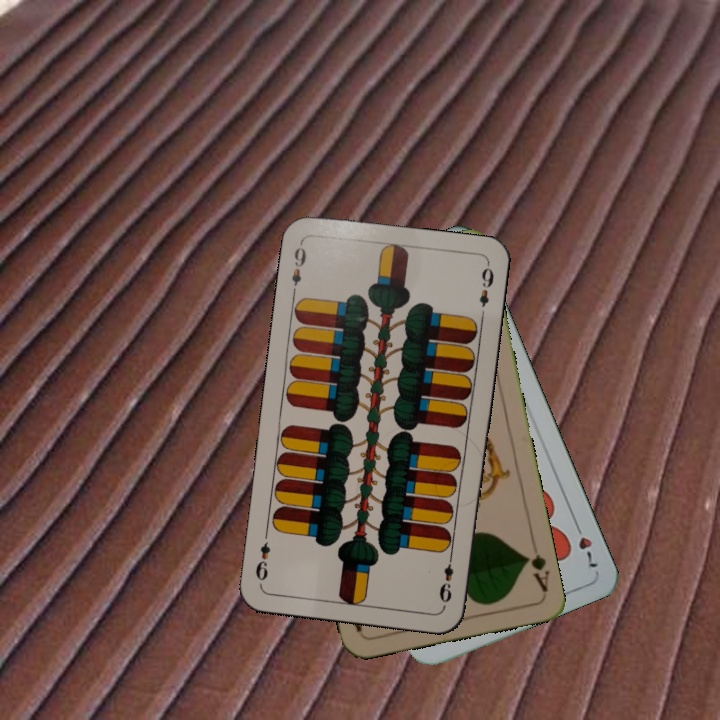E9: (287, 238, 309, 297), (435, 549, 456, 605)
GA: (520, 550, 552, 595)
H7: (569, 516, 600, 570)
